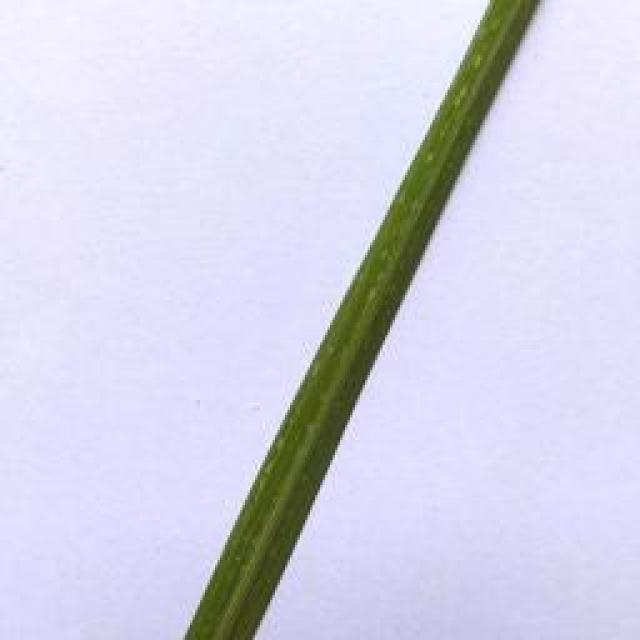Healthy-Plant: (188, 0, 538, 640)
